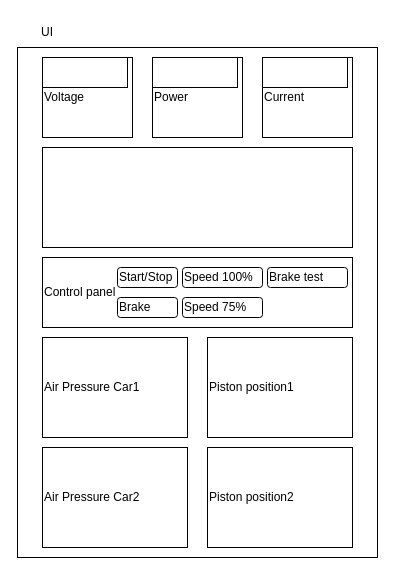
This 395x575 diagram has some shape labels left out. The centre of each missing label's shape, as x and y in pixels:
Curent amp: [305,72]
Current power: [195,72]
Current volt: [85,72]
Map: [197,197]
